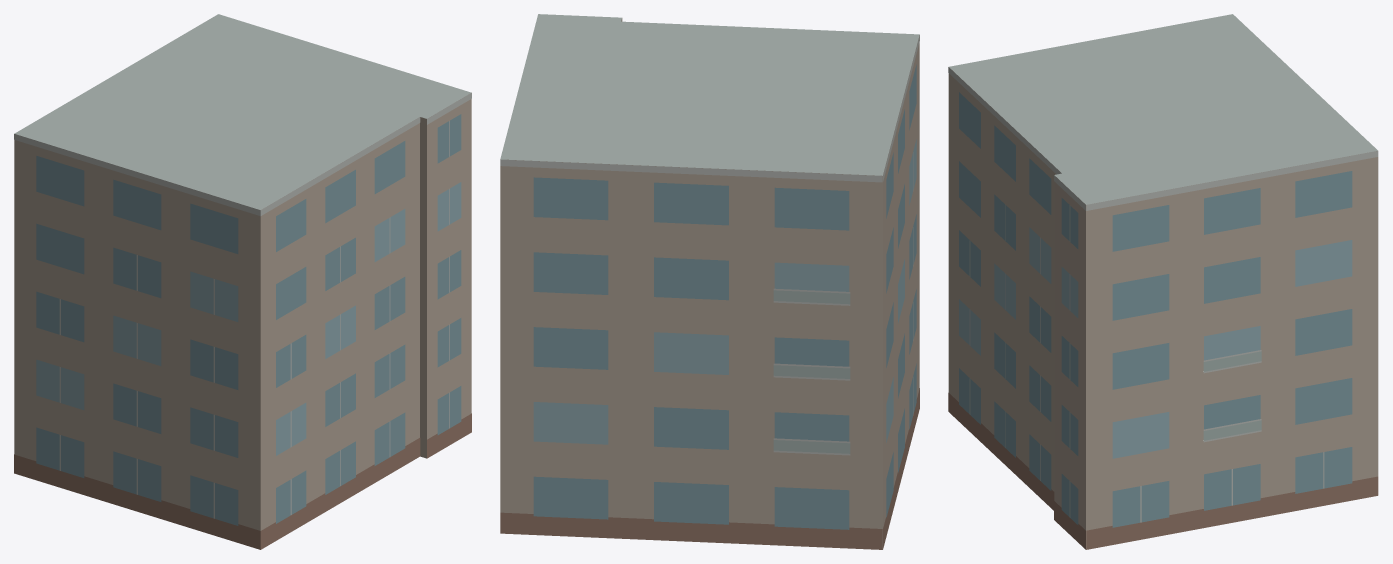
Rendered from survey-upis-33026128.glb.
3 views of the same model, side by side, from view 1: azimuth 30°, elevation 25°; view 2: azimuth 150°, elevation 25°; view 3: azimuth 270°, elevation 25° (orthographic). The views are drawn at different scales.
Parts seen in each view (by area): view 1: survey-upis-33026128.tmp; view 2: survey-upis-33026128.tmp; view 3: survey-upis-33026128.tmp.
Boxes of the visible parts, box(x1,y1,x2,y2) form: survey-upis-33026128.tmp: box(14, 14, 471, 549); survey-upis-33026128.tmp: box(500, 14, 919, 549); survey-upis-33026128.tmp: box(948, 14, 1378, 549).
Bounding box in the file's own units: 16.27 × 13.7 × 15.48.
